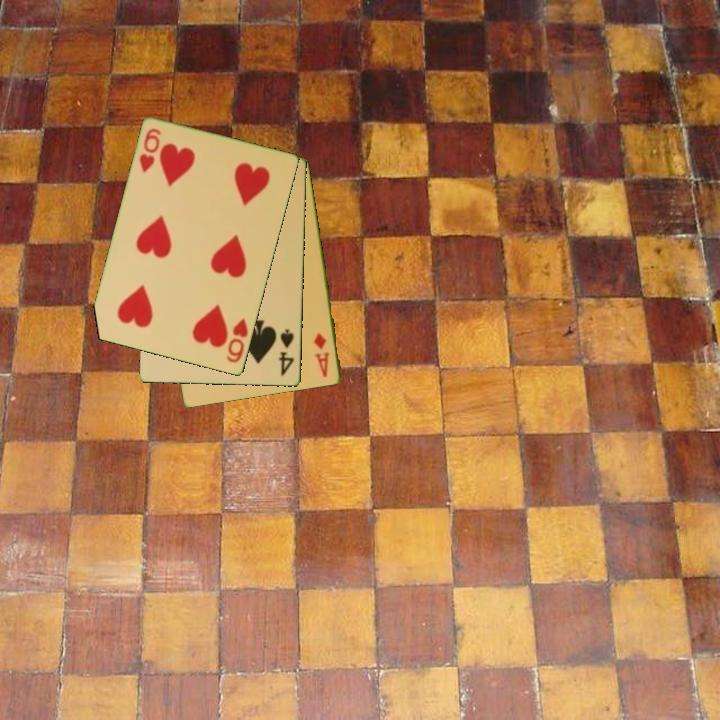4s: (275, 326, 297, 379)
6h: (223, 315, 251, 366), (136, 125, 164, 176)
Ad: (311, 330, 333, 380)
